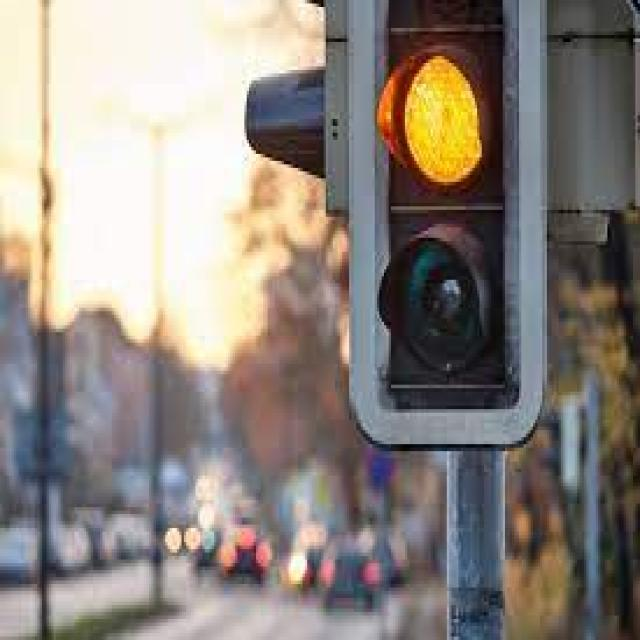yellow light: (383, 36, 502, 400)
